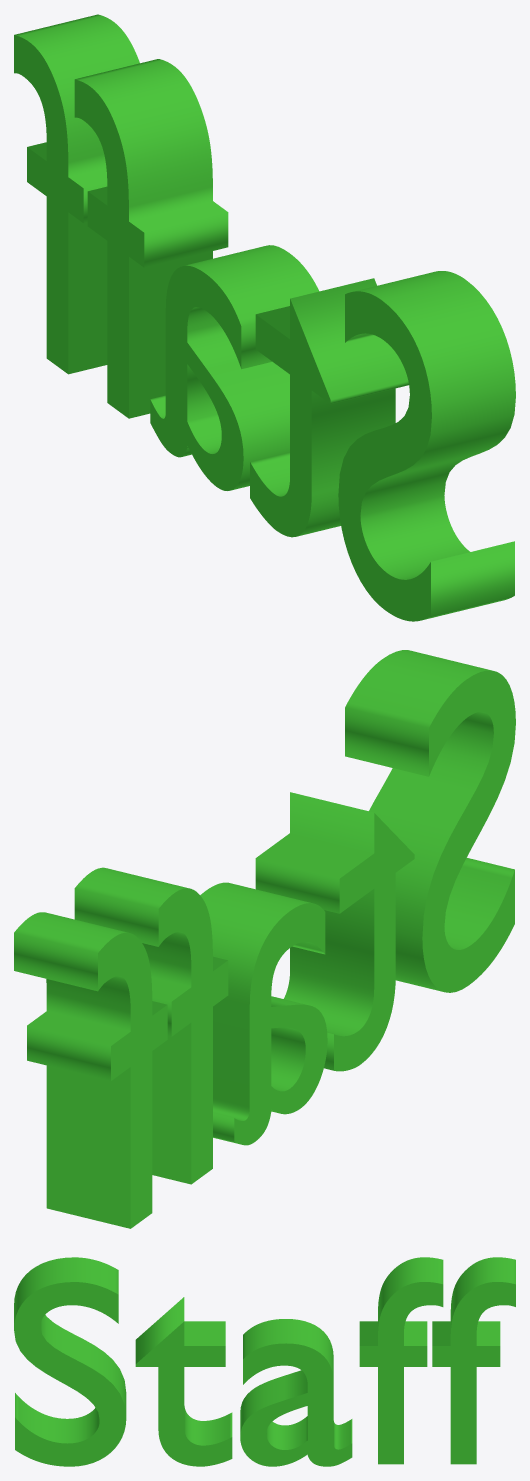
File: NewWebMenuStaff4.gltf
The picture shows the model from 3 angles, top to bottom: view 1: azimuth 30°, elevation 25°; view 2: azimuth 150°, elevation 25°; view 3: azimuth 270°, elevation 25°; orthographic projection. The views are drawn at different scales.
Parts seen in each view (by area): view 1: Staff; view 2: Staff; view 3: Staff.
Part boxes in pixels (x1=…): Staff: x1=14, y1=14, x2=515, y2=621; Staff: x1=14, y1=650, x2=515, y2=1228; Staff: x1=14, y1=1257, x2=515, y2=1466.
Size of the model in its own units: 0.0496 by 0.1737 by 0.4274.
